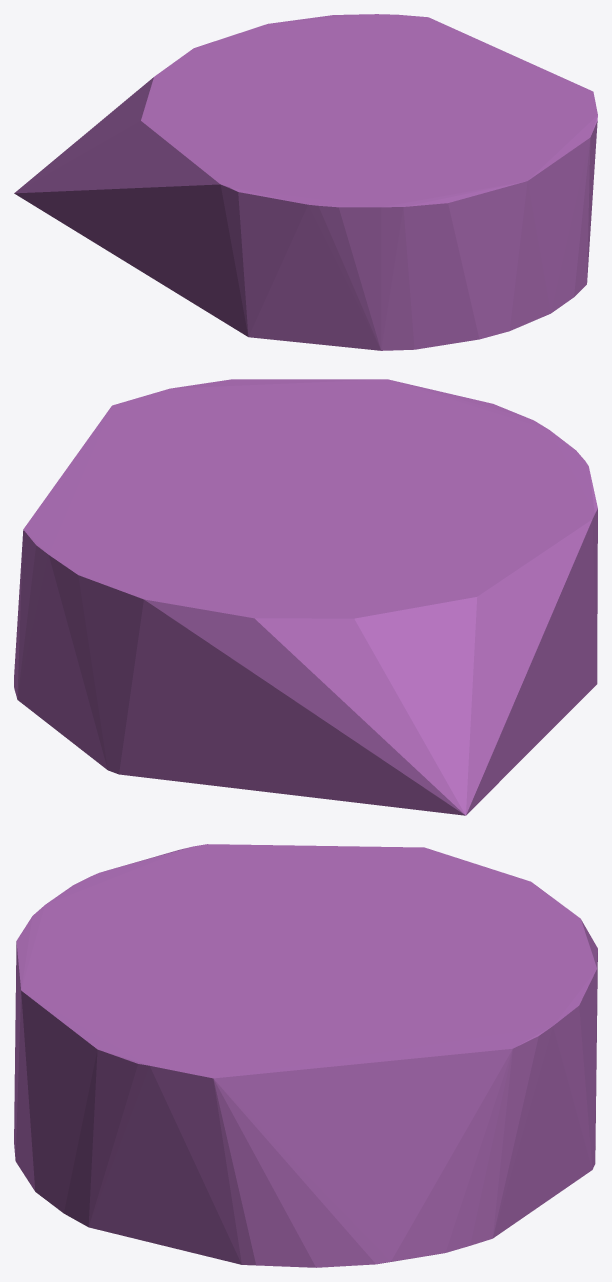
The model's file is misc_tape_refill_a03.glb.
The picture shows the model from 3 angles, top to bottom: view 1: azimuth 30°, elevation 25°; view 2: azimuth 150°, elevation 25°; view 3: azimuth 270°, elevation 25°; orthographic projection. The views are drawn at different scales.
Visible parts, largest first — view 1: geometry_0; view 2: geometry_0; view 3: geometry_0.
Part boxes in pixels (box(x1,y1,x2,y2)): geometry_0: box(14, 14, 597, 350); geometry_0: box(14, 379, 597, 815); geometry_0: box(14, 844, 597, 1267).
Size of the model in its own units: 0.455 by 0.1434 by 0.4117.
